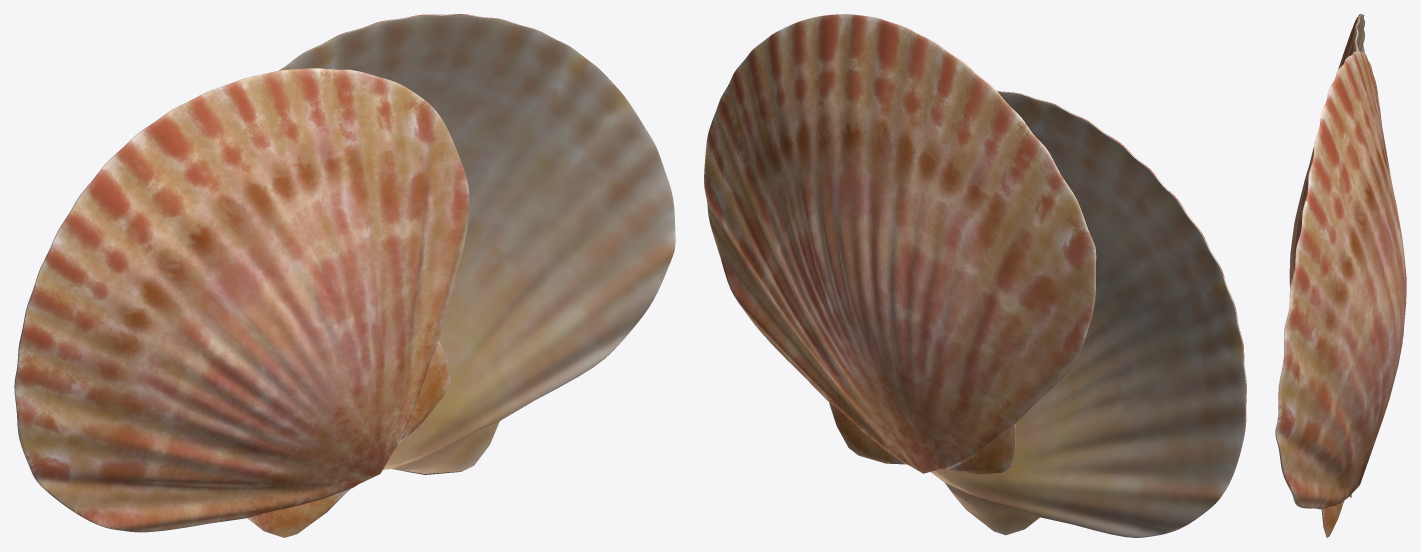
The model's file is seashell_obj.obj.
The picture shows the model from 3 angles, left to right: view 1: azimuth 30°, elevation 25°; view 2: azimuth 150°, elevation 25°; view 3: azimuth 270°, elevation 25°; orthographic projection. The views are drawn at different scales.
Visible parts, largest first — view 1: seashell_obj.001; view 2: seashell_obj.001; view 3: seashell_obj.001.
Boxes of the visible parts, <box> form: seashell_obj.001: <box>14,14,675,537</box>; seashell_obj.001: <box>704,14,1246,537</box>; seashell_obj.001: <box>1275,14,1406,537</box>.
Size of the model in its own units: 610 by 473 by 119.
1 material, 1 textured.
